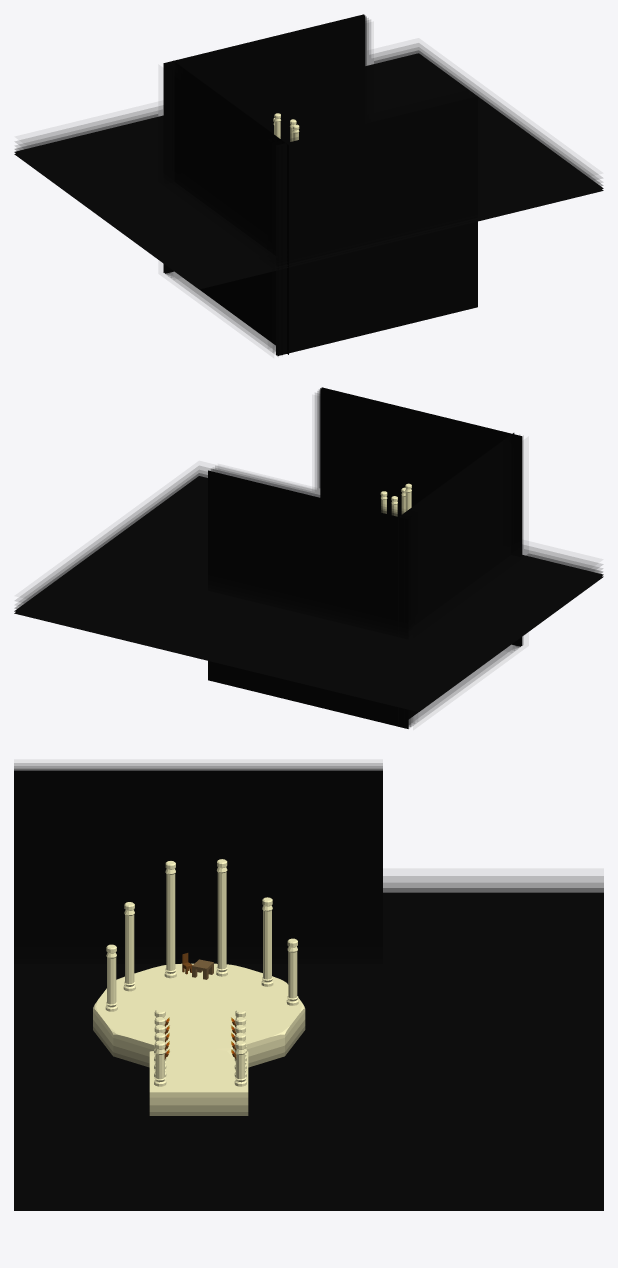
The model's file is Boss Fight.fbx.
3 renders of one model, top to bottom at view 1: azimuth 30°, elevation 25°; view 2: azimuth 150°, elevation 25°; view 3: azimuth 270°, elevation 25°, orthographic. The views are drawn at different scales.
Visible parts, largest first — view 1: Plane.011; view 2: Plane.011; view 3: Plane.011.
Part boxes in pixels (x1=…): Plane.011: x1=14, y1=14, x2=603, y2=356; Plane.011: x1=14, y1=387, x2=603, y2=728; Plane.011: x1=14, y1=763, x2=603, y2=1210.
Bounding box in the file's own units: 782 × 619 × 387.
